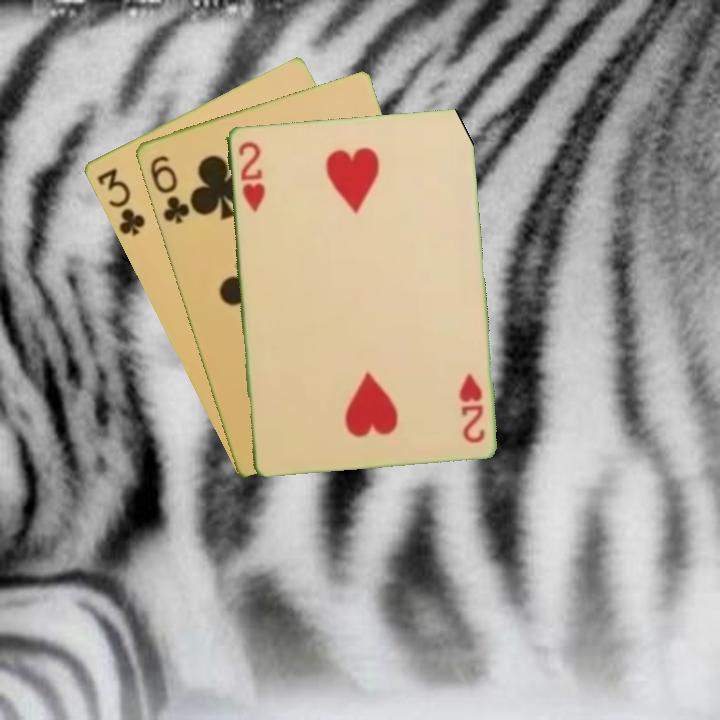2h: (234, 137, 267, 215), (455, 370, 487, 446)
3c: (93, 164, 148, 239)
6c: (146, 151, 192, 227)
